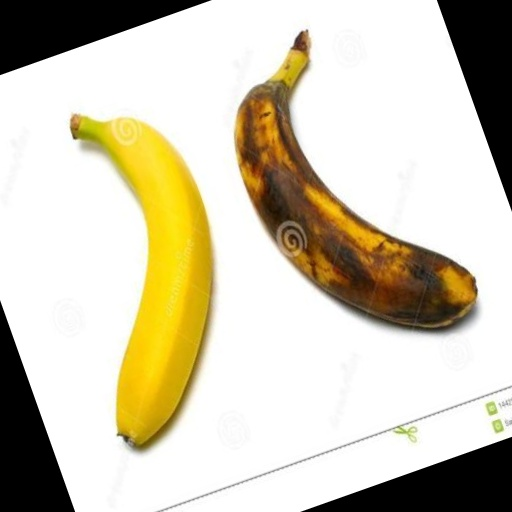fruit: (93, 66, 440, 392), (1, 64, 178, 214)
